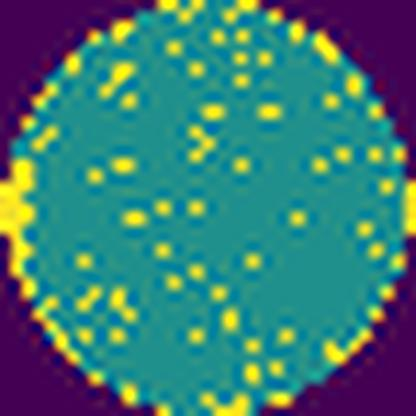Edge-Loc: (0, 153, 45, 302), (192, 391, 252, 416)
